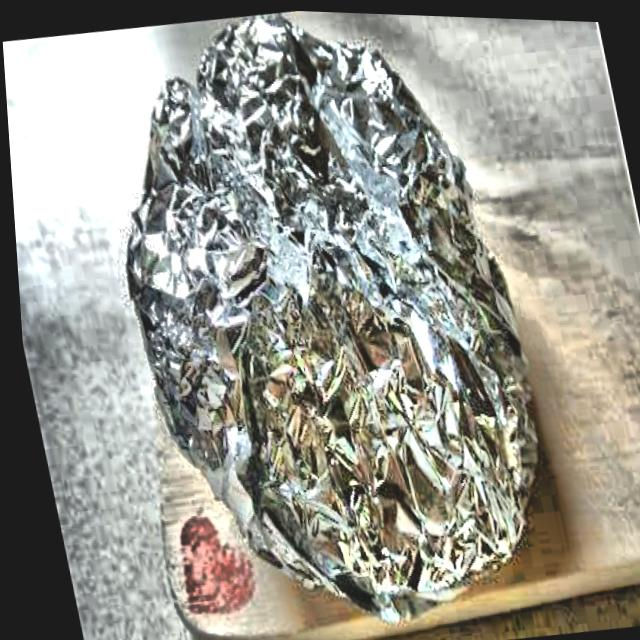Foil: (61, 2, 585, 640)
